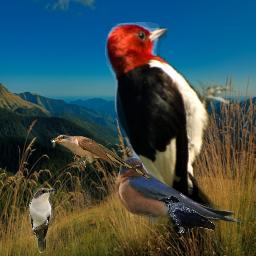Crow: (158, 196, 215, 233)
Cuckoo: (49, 134, 152, 180), (29, 188, 56, 253)
Swallow: (115, 157, 249, 226)
Woodpecker: (104, 22, 237, 241)
